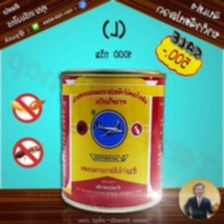insecticide: (58, 66, 169, 214)
